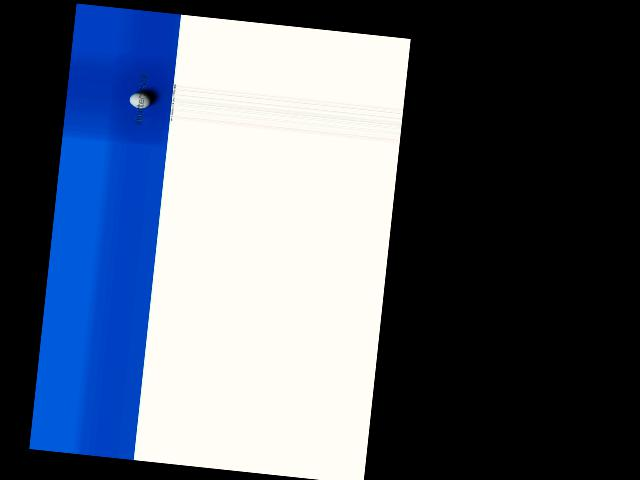egg: (128, 91, 152, 108)
